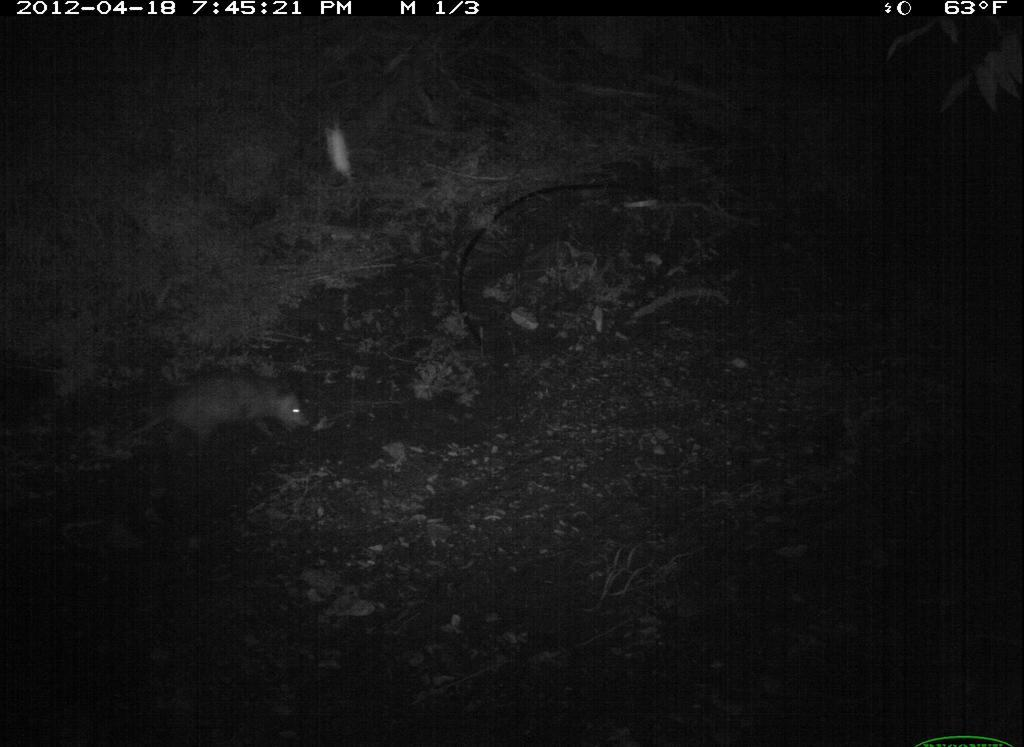opossum: (98, 365, 322, 468)
